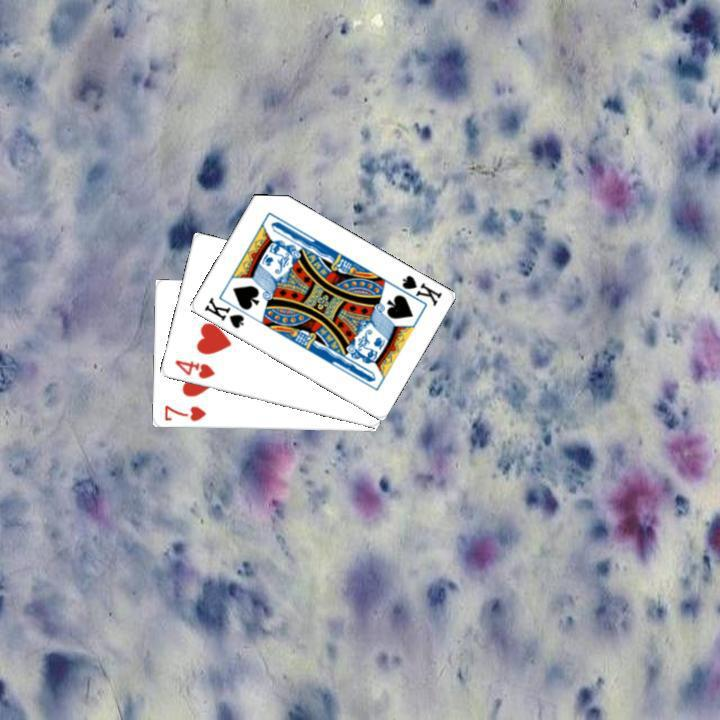4: (170, 356, 216, 381)
7: (159, 401, 208, 423)
K: (389, 271, 443, 309), (199, 293, 246, 331)
